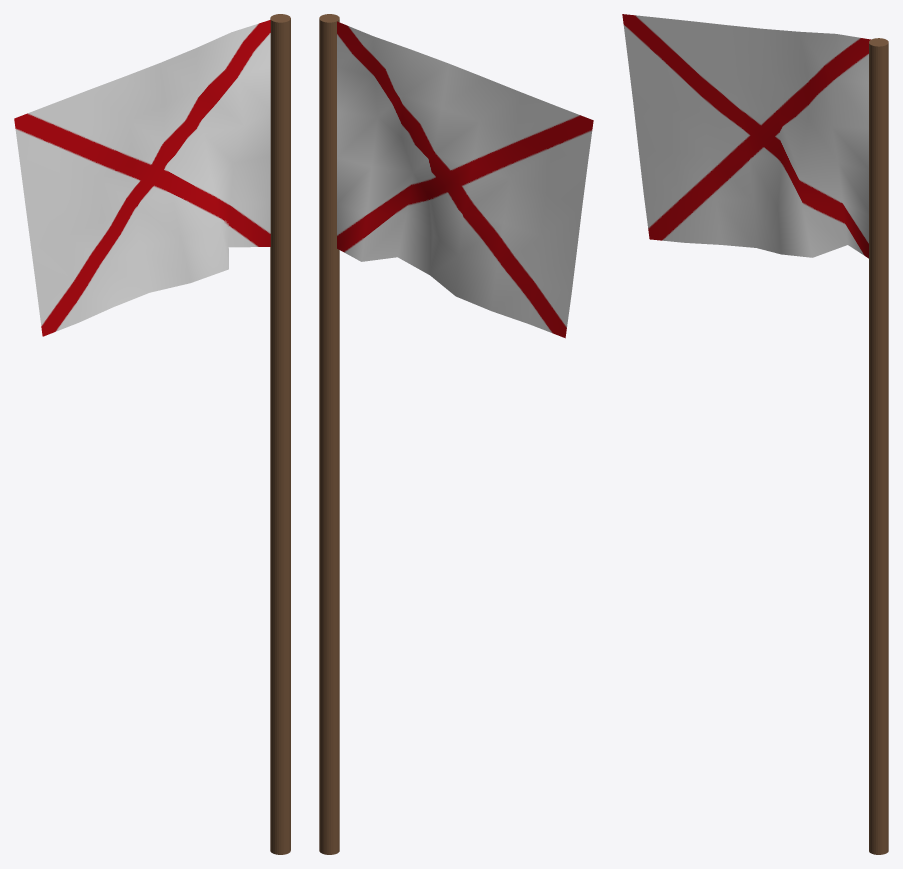
Rendered from Flag.fbx.
3 views of the same model, side by side, from view 1: azimuth 30°, elevation 25°; view 2: azimuth 150°, elevation 25°; view 3: azimuth 330°, elevation 25° (orthographic). The views are drawn at different scales.
Visible parts, largest first — view 1: Flag; view 2: Flag; view 3: Flag.
Part boxes in pixels (left/top/right/bottom): Flag: left=14, top=14, right=290, bottom=854; Flag: left=319, top=14, right=593, bottom=854; Flag: left=622, top=14, right=888, bottom=854.
Size of the model in its own units: 0.4227 by 1.23 by 0.0503.
